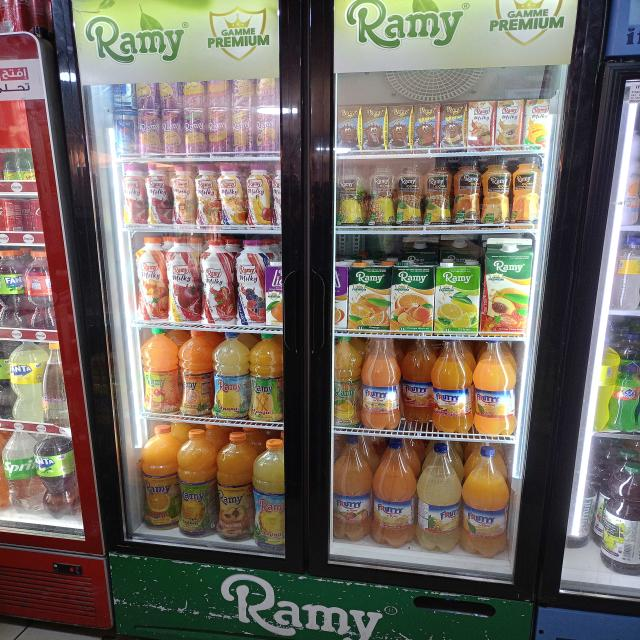CJus Ananas 24 CL: (232, 108, 257, 157)
CJus Cocktail 24 CL: (256, 108, 279, 156)
CJus Orange 24 CL: (158, 109, 188, 159)
CJus Peche 24 CL: (206, 107, 234, 158)
PET Extra Ananas 30 CL: (370, 163, 398, 230)
PET Extra Or-Abricot 30 CL: (455, 161, 482, 229)
PET Extra Or-Ananas 30 CL: (481, 158, 511, 228)
PET Extra Orange30 CL: (512, 156, 541, 229)
PET Frutty Annanas 2L: (413, 441, 462, 556)
PET Frutty Cocktail 2 L: (334, 438, 371, 540)
PET Frutty Or-Peche-Fr 1L: (429, 340, 477, 434)
PET Frutty Orangre 1L25: (473, 340, 521, 437)
PET Ramy Ananas 125 L: (210, 333, 249, 418)
PET Ramy Peche Abricot 2 L: (217, 433, 253, 543)
PET Ramy mangue 125L: (250, 334, 285, 424)
Pet Ramy Orange 2L: (140, 421, 183, 530)
Ramy Extra Ananas: (424, 162, 452, 230)
Ramy Milky abricot20 CL: (496, 100, 523, 151)
Ramy Milky mangues20 CL: (526, 100, 552, 151)
Ramy Milky peach 20 CL: (468, 102, 496, 150)
Ramy milky fraise 1L: (199, 238, 237, 325)
Ramy milky fraise framboise 1L: (238, 239, 267, 324)
Ramy milky grenade 1L: (168, 240, 202, 324)
UP Choco 20 CL: (414, 103, 441, 153)
pet ramy ananas 2L: (181, 428, 216, 536)
ramy milky grenade300ml: (146, 162, 173, 225)
ramy milky pomme banane 300ml: (245, 163, 273, 230)
ramy premium Orange Abricot 1L: (391, 260, 435, 335)
ramy premium citron 1L: (436, 262, 479, 336)
ramy premium orange peche fraises 2Le: (484, 237, 534, 337), (348, 261, 391, 332)
